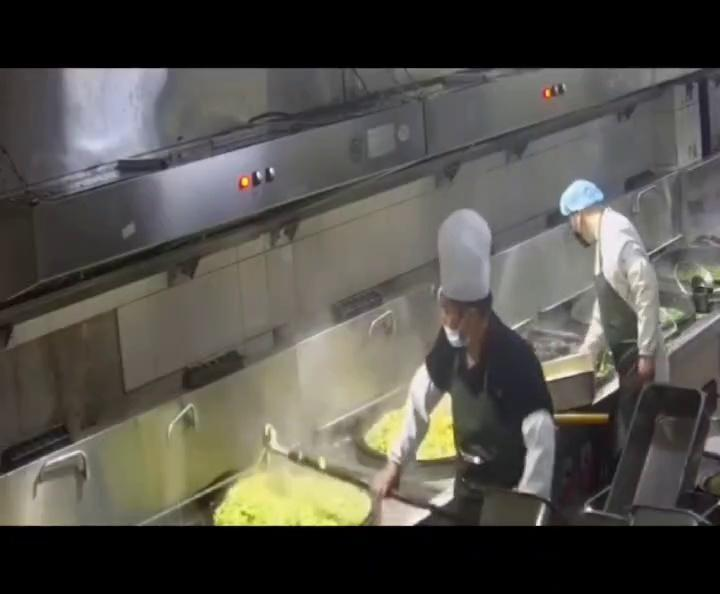mask: (437, 304, 475, 347)
